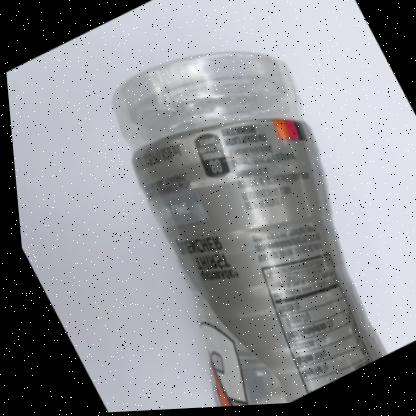Plastic: (108, 54, 379, 409)
